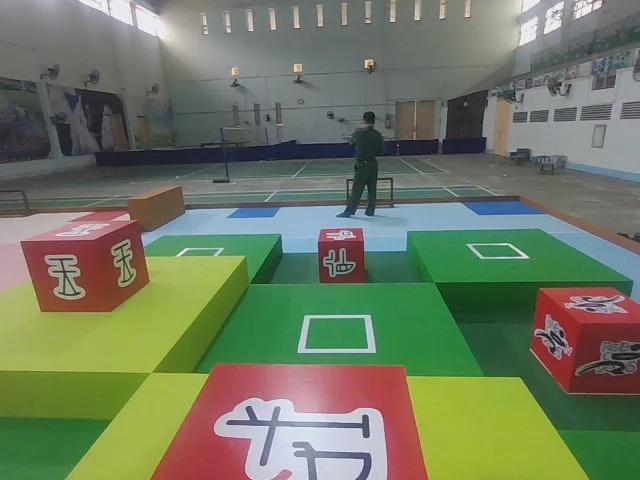R1: (527, 283, 640, 399)
R2 Real: (143, 359, 431, 480), (17, 217, 152, 316), (315, 224, 368, 286)
